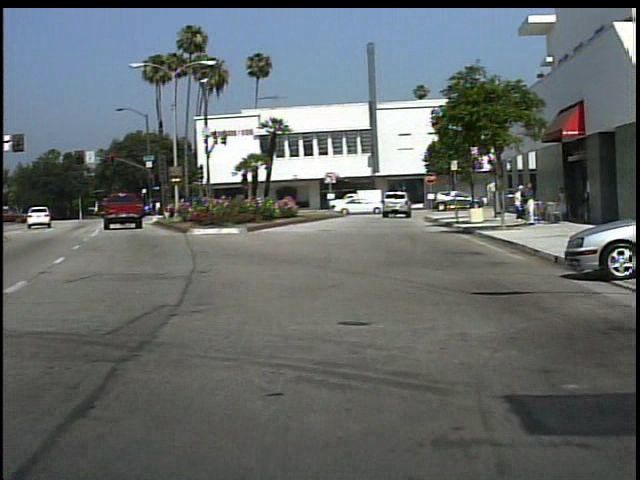person: (520, 180, 537, 226), (370, 190, 391, 218), (554, 184, 568, 223), (510, 183, 522, 221)
